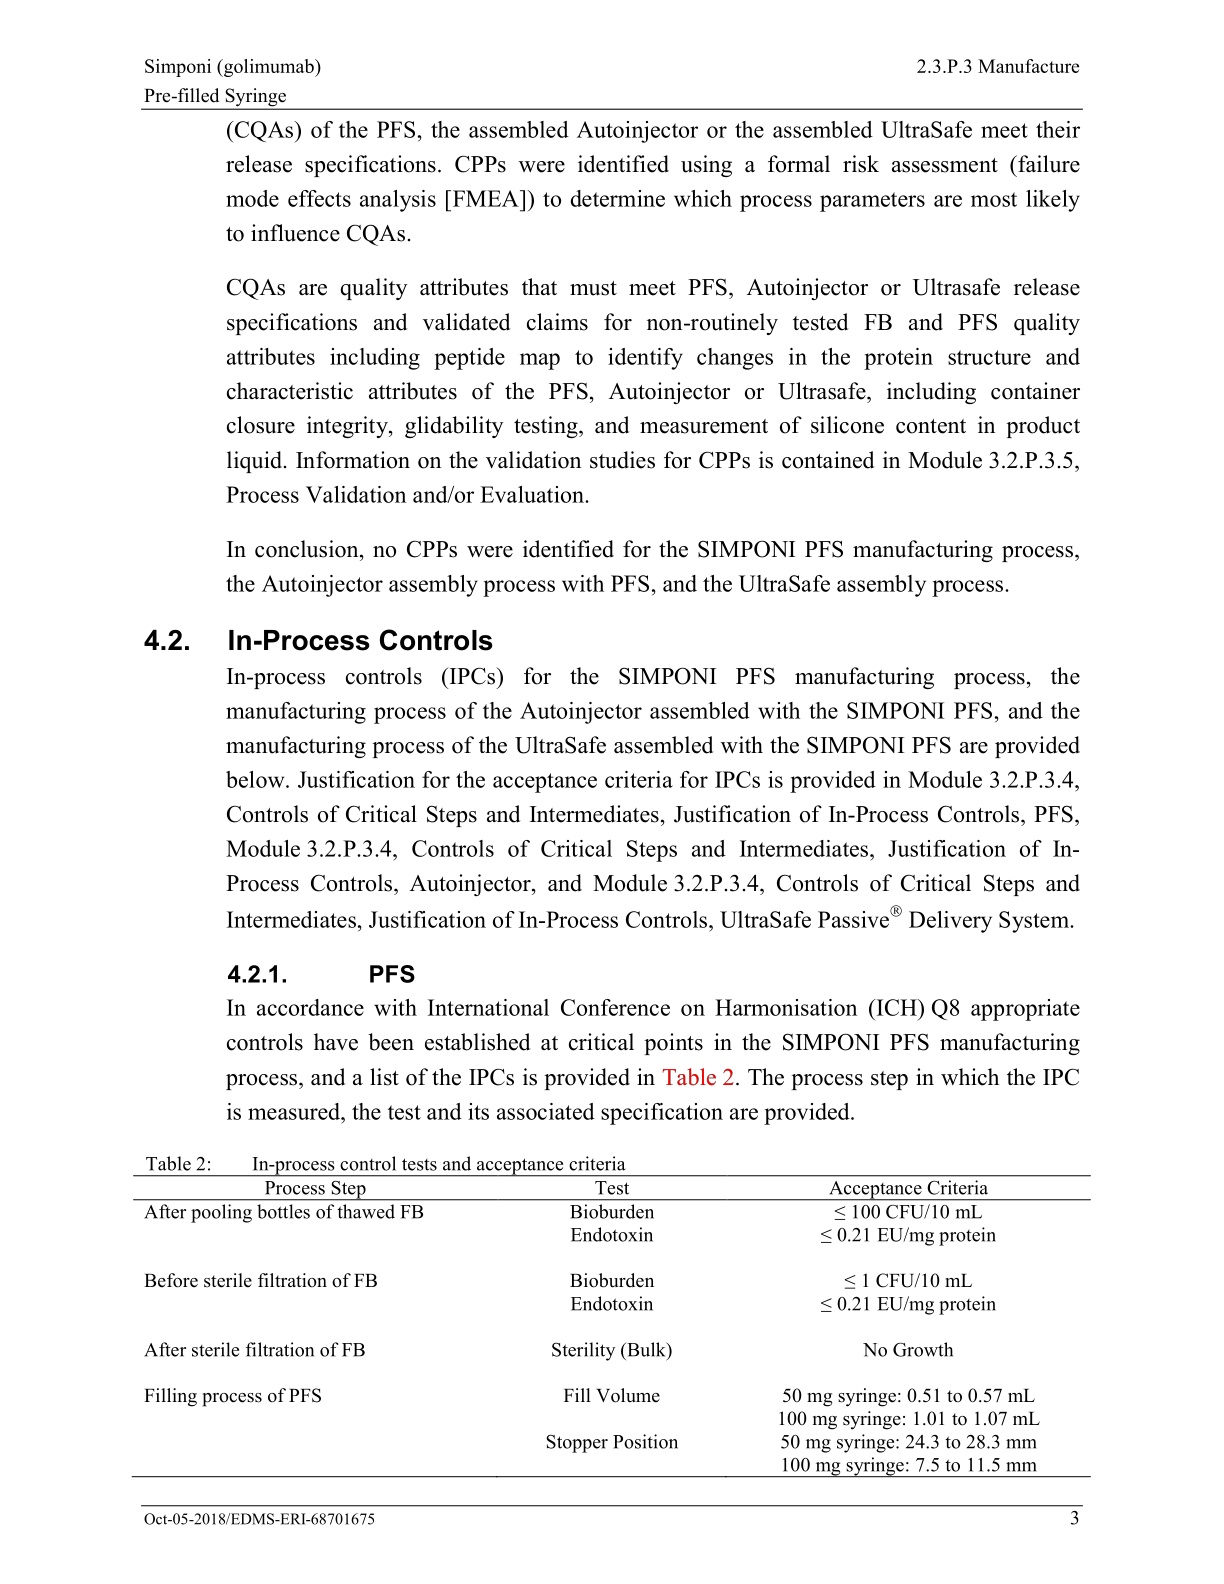partial_lined: (132, 1175, 1092, 1480)
